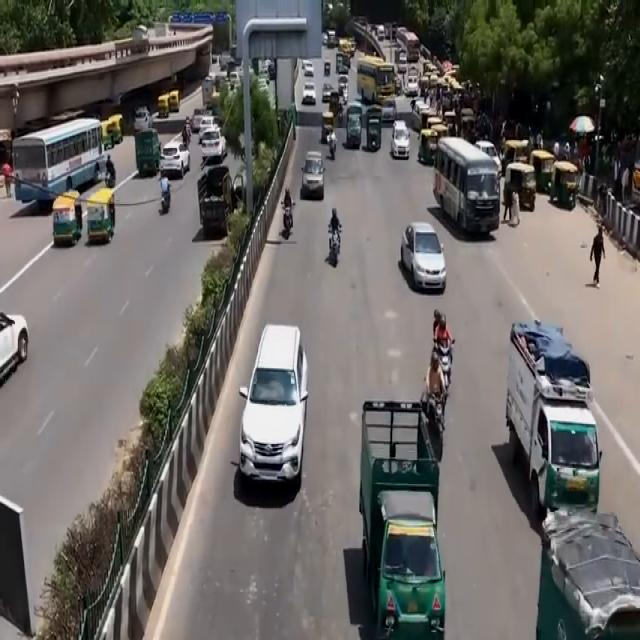BUS: (14, 116, 116, 211), (436, 140, 504, 242), (354, 56, 397, 105)
MOTORCYCLE: (329, 229, 340, 267)
TRUCK: (510, 326, 603, 523)
